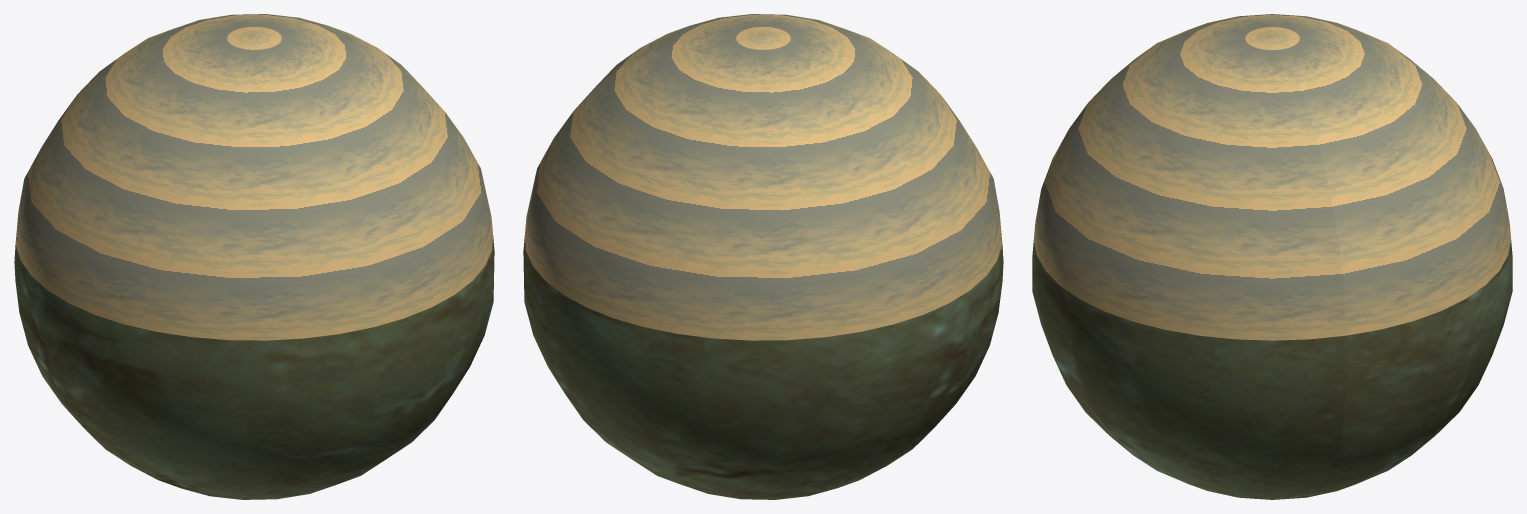
File: BeyondSunsetSky.fbx
The picture shows the model from 3 angles, left to right: view 1: azimuth 30°, elevation 25°; view 2: azimuth 150°, elevation 25°; view 3: azimuth 270°, elevation 25°; orthographic projection.
Visible parts, largest first — view 1: mesh-3, mesh-3.002; view 2: mesh-3, mesh-3.002; view 3: mesh-3, mesh-3.002.
Boxes of the visible parts, x1=… form: mesh-3: x1=16, y1=14, x2=492, y2=340; mesh-3.002: x1=14, y1=233, x2=494, y2=499; mesh-3: x1=525, y1=14, x2=1001, y2=340; mesh-3.002: x1=523, y1=233, x2=1003, y2=499; mesh-3: x1=1033, y1=14, x2=1511, y2=340; mesh-3.002: x1=1032, y1=240, x2=1512, y2=499.
Bounding box in the file's own units: 5.93e+07 × 6e+07 × 5.93e+07.
Materials: 3 (3 with a texture image).
